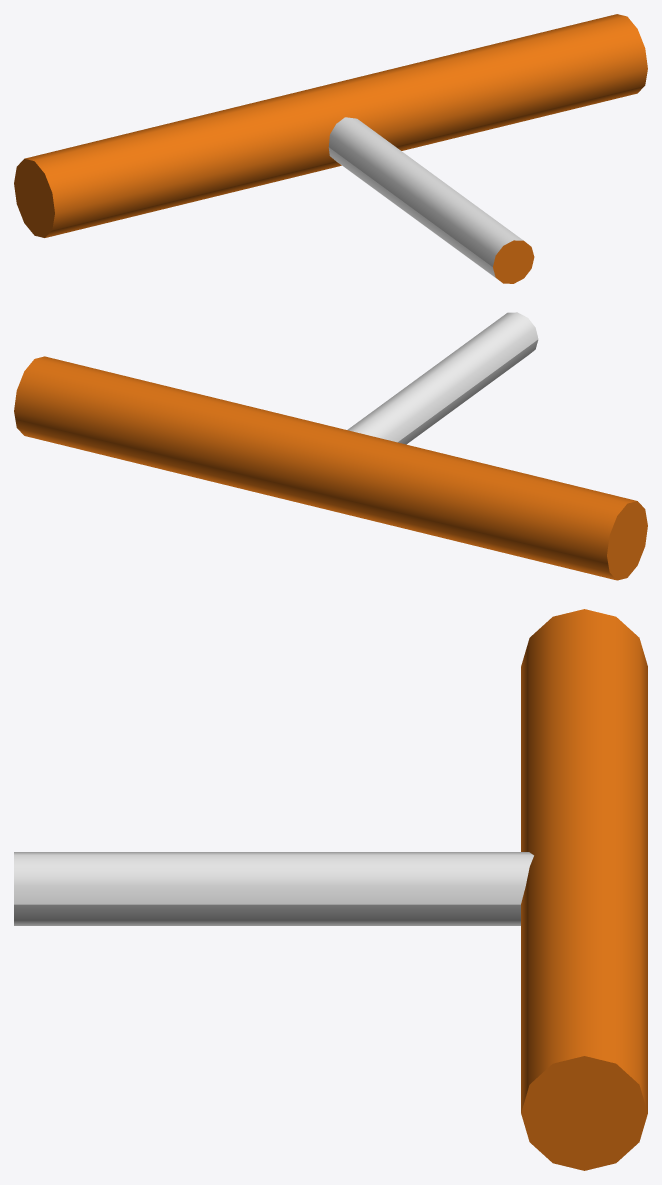
Rendered from Rails_1m_01_mesh.fbx.
The picture shows the model from 3 angles, top to bottom: view 1: azimuth 30°, elevation 25°; view 2: azimuth 150°, elevation 25°; view 3: azimuth 270°, elevation 25°; orthographic projection. The views are drawn at different scales.
Parts seen in each view (by area): view 1: Cylinder.018; view 2: Cylinder.018; view 3: Cylinder.018.
Boxes of the visible parts, bbox=[...] form: Cylinder.018: bbox=[14, 14, 647, 283]; Cylinder.018: bbox=[14, 312, 647, 580]; Cylinder.018: bbox=[14, 609, 647, 1170].
Size of the model in its own units: 12 by 100 by 59.95.
